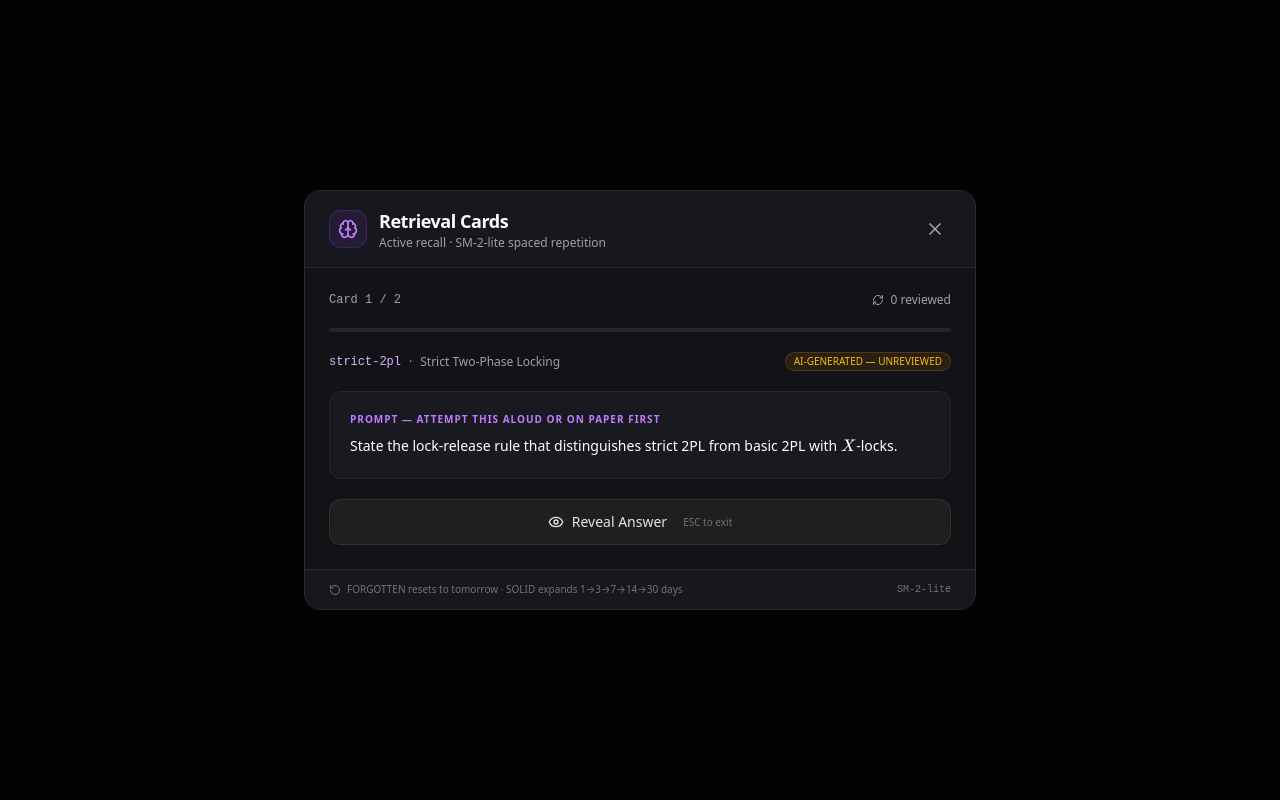
Test case: CardReviewDrawer Component › 2 honest-judge PASS - reveal exposes the answer, then SOLID grades with grade 2 and advances
Click the button with test id "card-reveal-btn" at [640, 522], box [329,499,951,545]
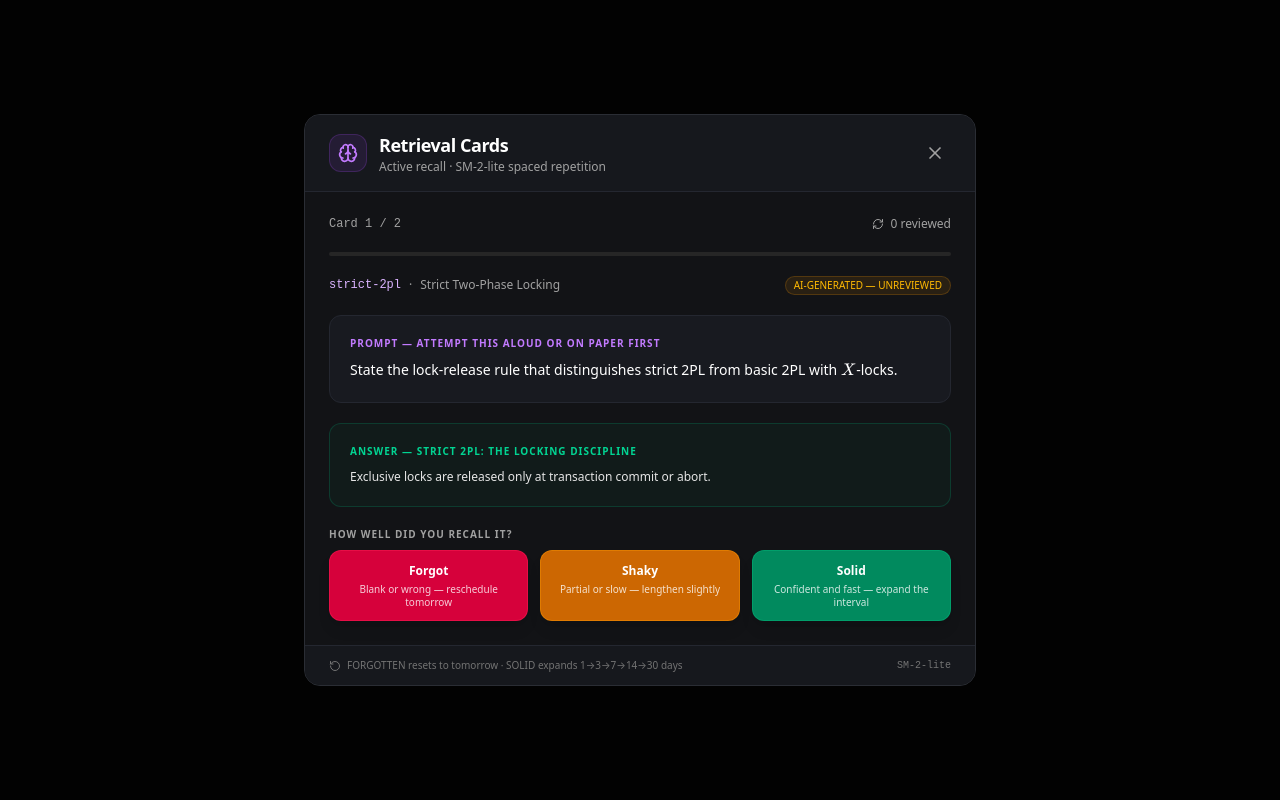
Check: the element with test id "card-answer" is shown, box [329,423,951,507]
Check: the element with test id "card-answer" shows "released only at transaction commit", box [350,468,711,485]
Click the button with test id "grade-solid-btn" at [851, 586], box [752,550,951,621]
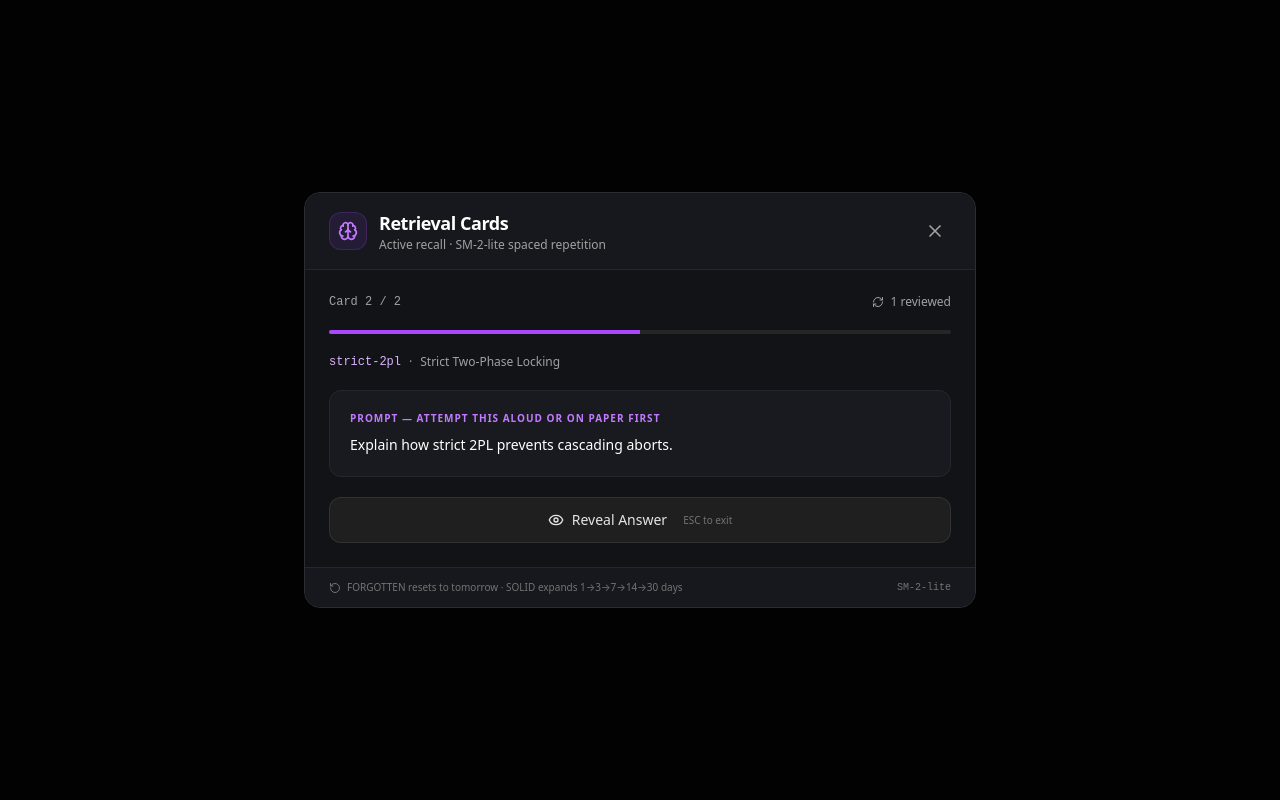
Check: the text "Card 2 / 2" is shown, box [329,294,401,310]
Check: the element with test id "card-answer" is gone
